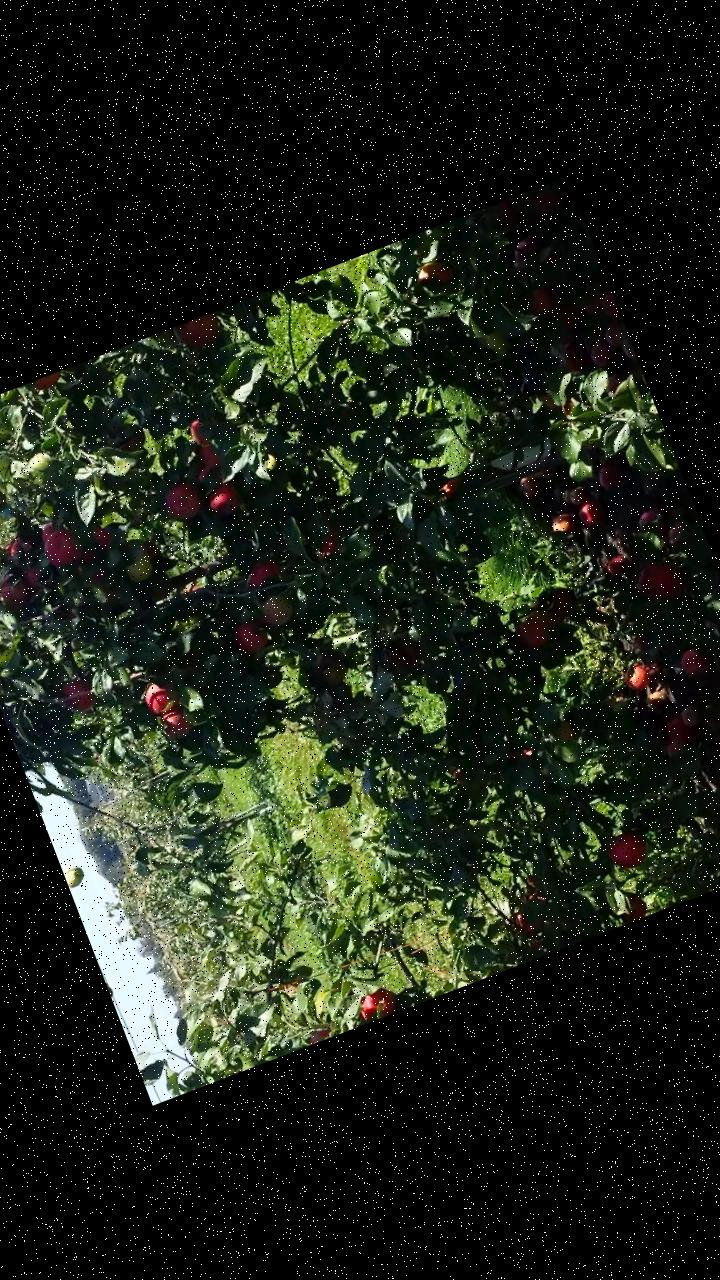Apple: (72, 518, 122, 570), (602, 825, 654, 875), (38, 524, 86, 573), (52, 671, 100, 719), (380, 632, 430, 678), (158, 477, 206, 524), (138, 670, 184, 719), (173, 312, 224, 354), (353, 981, 403, 1023), (229, 612, 272, 660), (237, 550, 286, 592), (204, 474, 248, 518), (256, 588, 298, 634), (516, 606, 560, 648), (188, 438, 228, 484), (410, 254, 454, 292), (541, 581, 580, 622), (0, 569, 35, 611), (610, 886, 648, 924), (87, 563, 121, 603), (158, 706, 195, 742), (310, 527, 344, 559), (2, 526, 35, 557), (122, 554, 156, 584), (20, 559, 50, 592), (183, 413, 211, 446), (32, 518, 62, 548), (25, 371, 64, 394), (437, 473, 465, 502), (552, 716, 578, 746), (514, 908, 537, 936)
